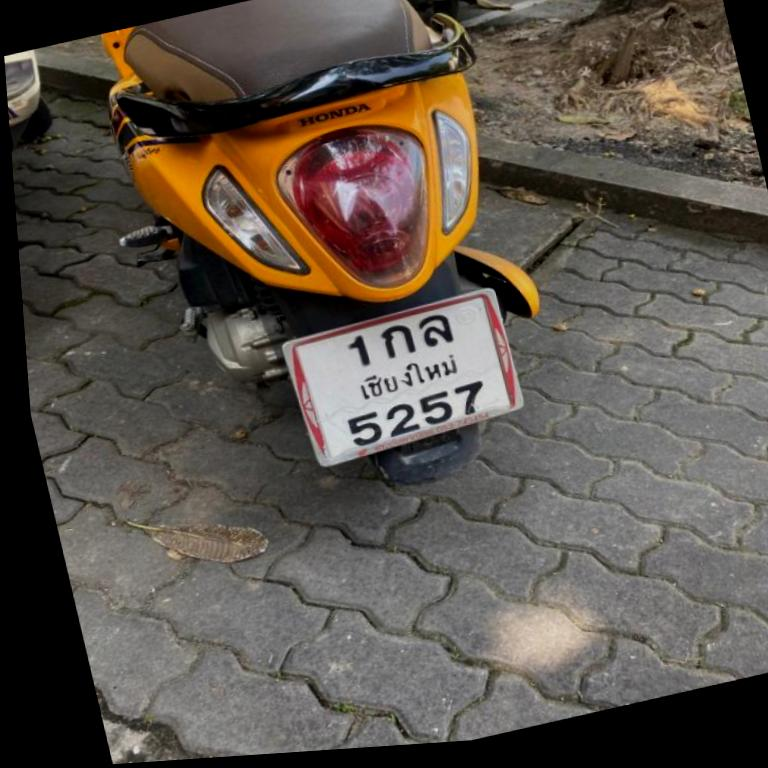license plate: (283, 289, 522, 463)
